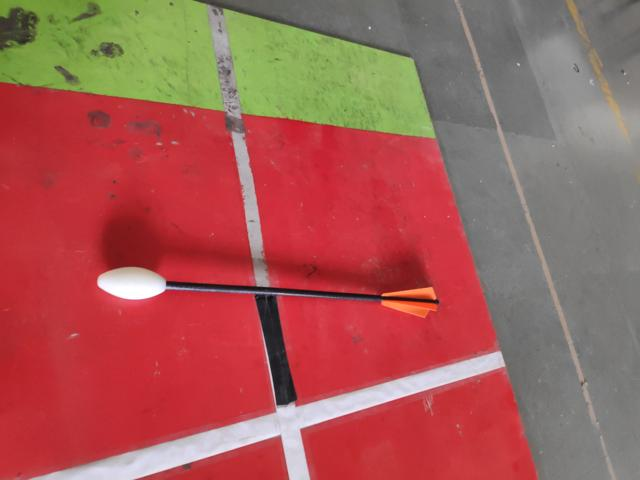Head: (95, 263, 169, 302)
Tail: (378, 281, 444, 322)
